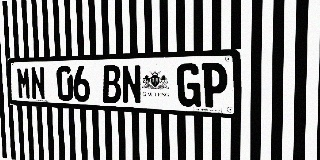0: (56, 66, 73, 101)
6: (72, 66, 90, 102)
B: (102, 65, 121, 104)
G: (177, 63, 201, 107)
M: (16, 67, 31, 100)
N: (121, 64, 142, 104), (30, 67, 46, 100)
P: (202, 63, 228, 108)
